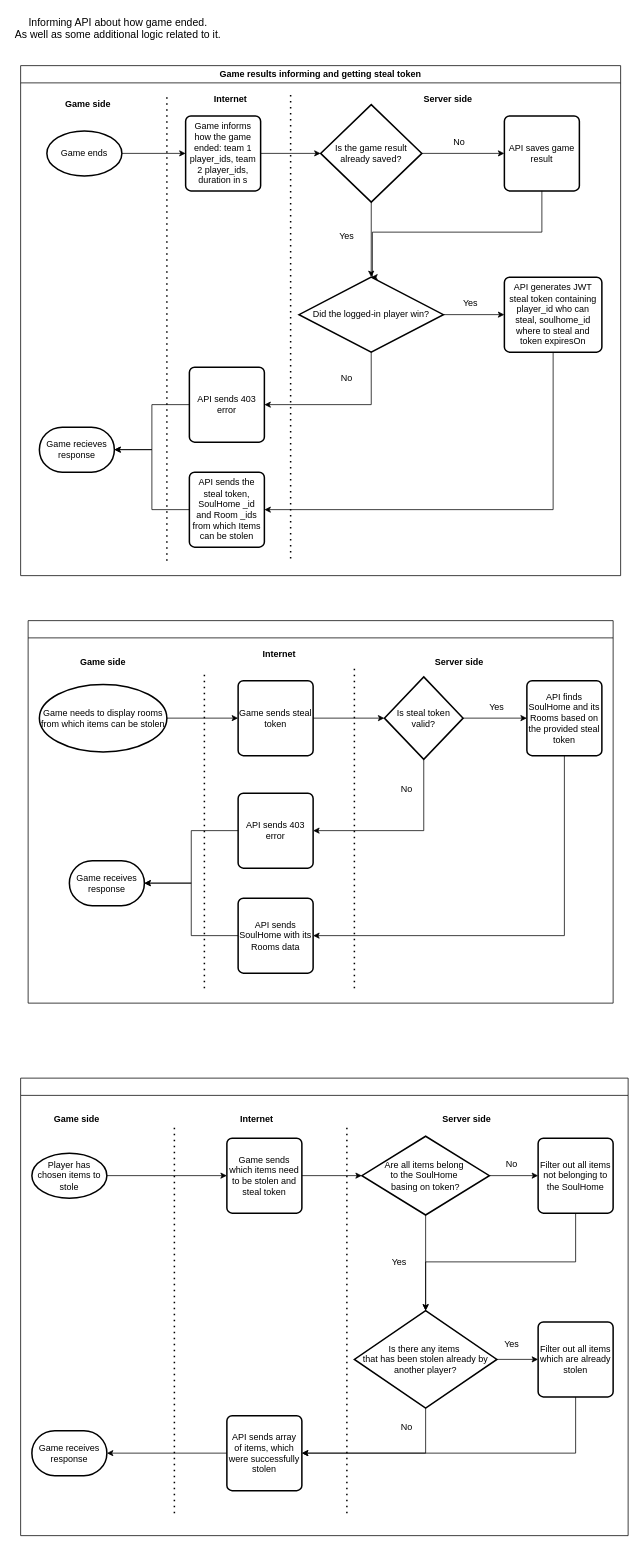
The diagram is 641 pixels wide and 1549 high, and some of its shapes have lost their labels. The centre of each missing label's shape, as x and y in pixels:
"Get rooms from which items can be stolen" belongs at [320,811].
"Item stealing process" belongs at [324,1306].
